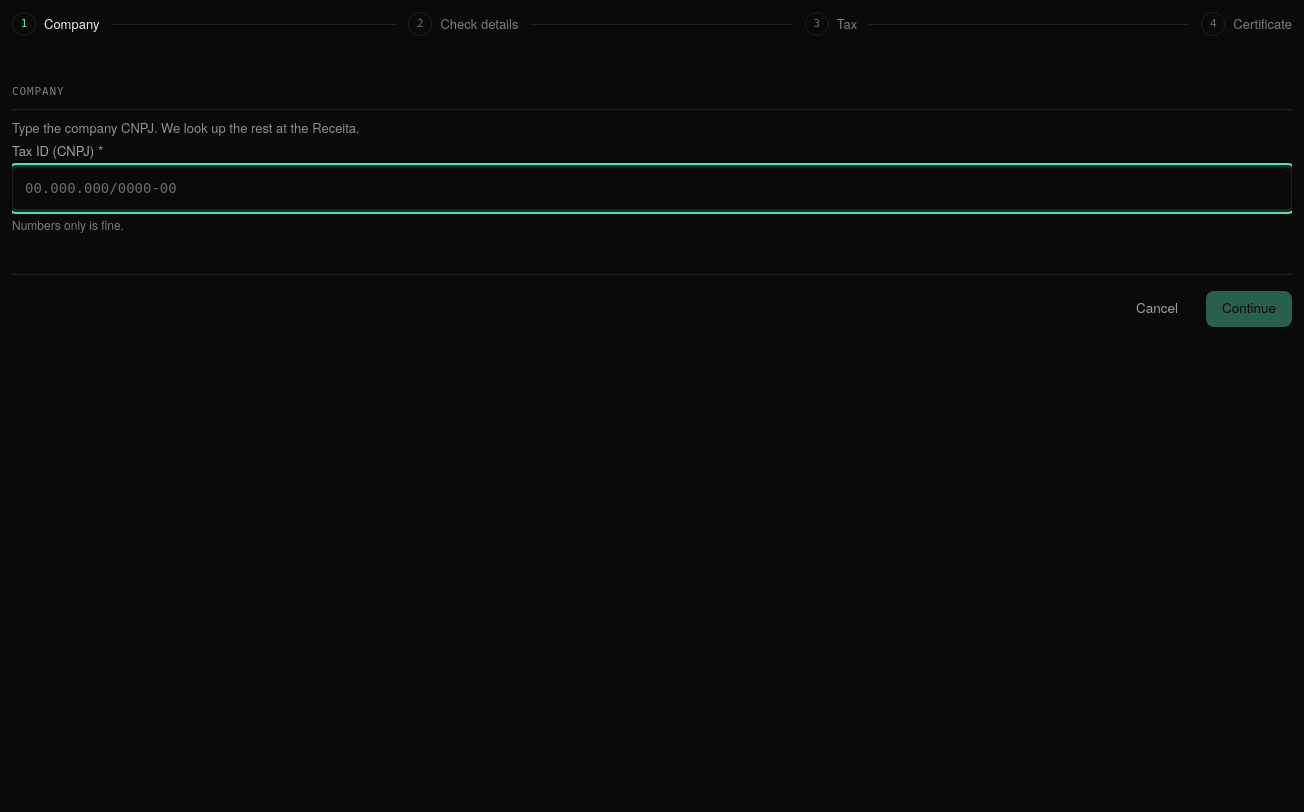
Scenario: CompanyForm starts with the CNPJ › looks the company up, shows what was found and goes on to check the details
The width and height of the screenshot is (1304, 812).
Type "11222333000181" into the field labelled "Tax ID (CNPJ)*".
click(652, 188); type("11222333000181")  # box [12,166,1292,210]
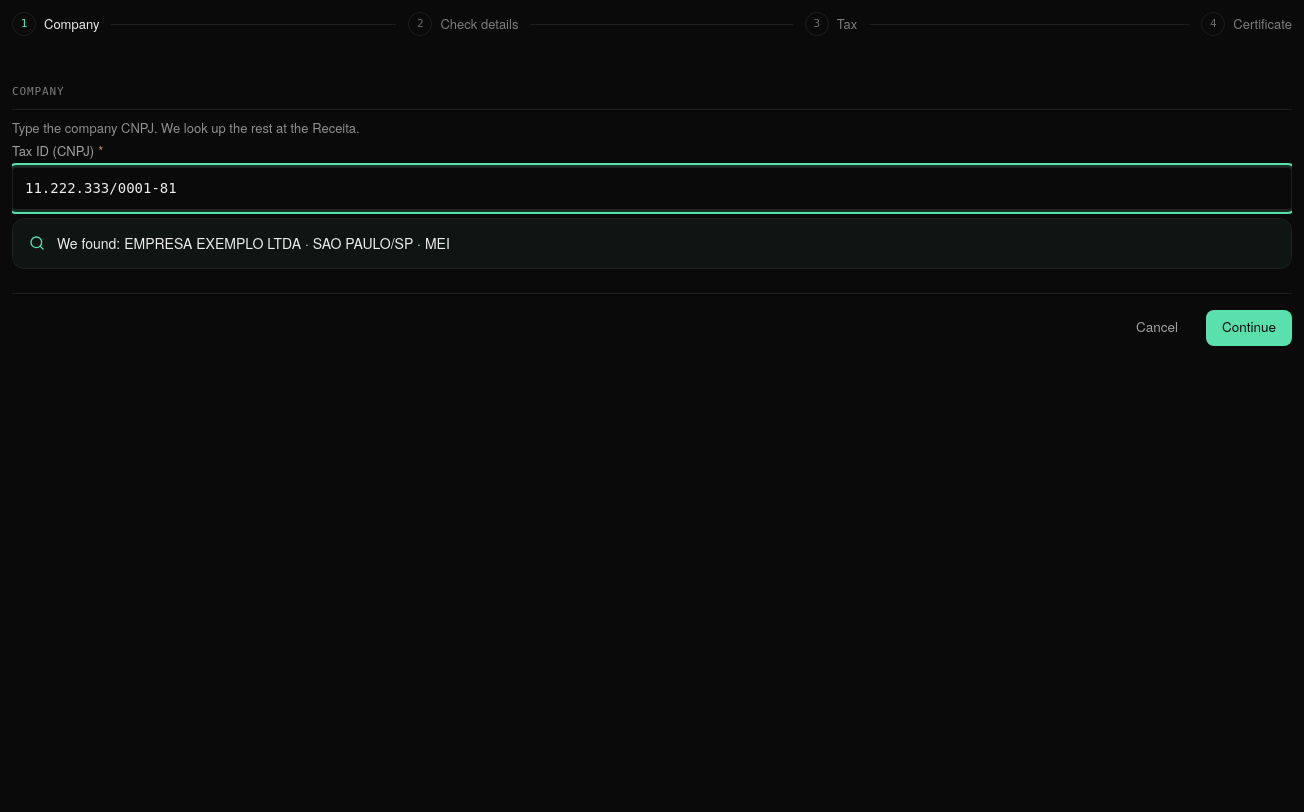
Expected: the text "We found: EMPRESA EXEMPLO LTDA · SAO PAULO/SP · MEI" is shown, [57,232,450,254]
Expected: the button "Continue" is enabled
Click the button "Continue".
click(1249, 328)  # box [1206,310,1292,346]
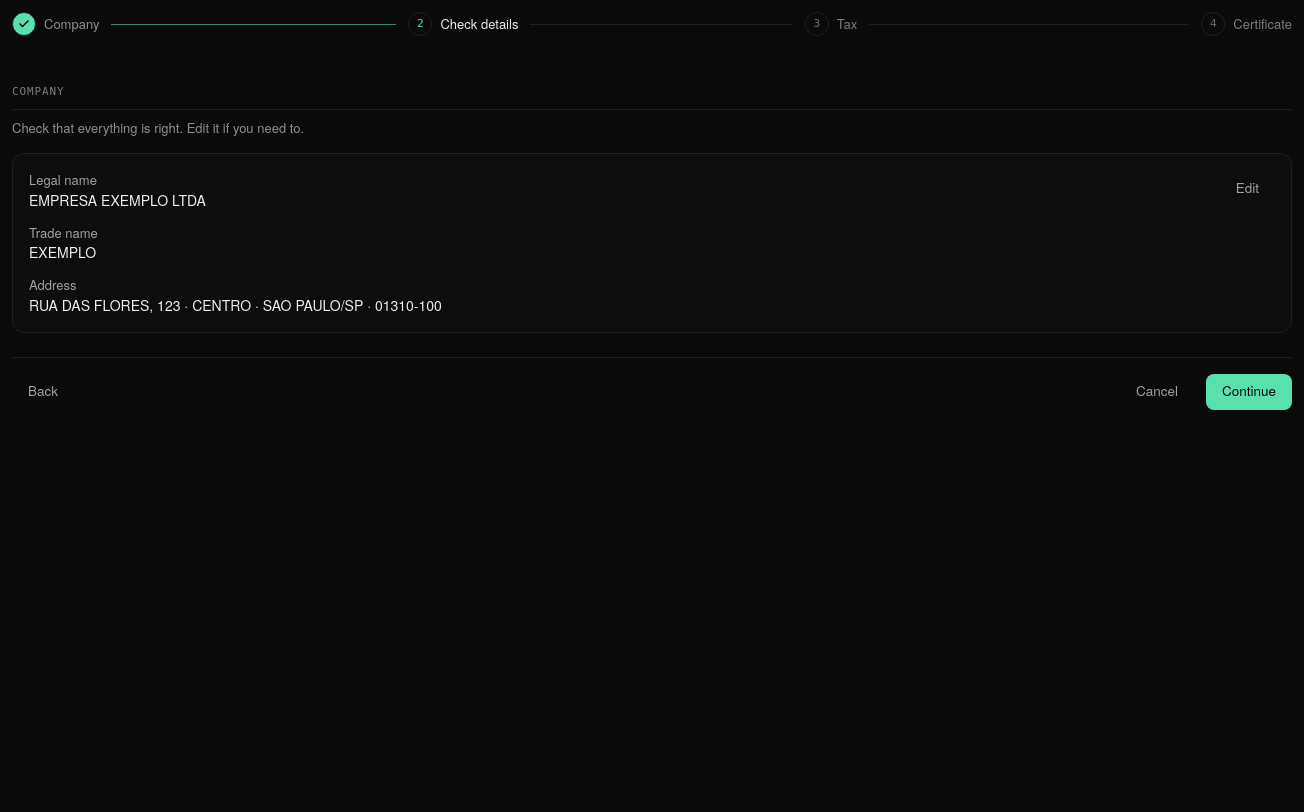
Expected: the text "EMPRESA EXEMPLO LTDA" is shown, [29,190,206,210]
Expected: the text "EXEMPLO" is shown, [29,242,96,262]
Expected: the text "RUA DAS FLORES, 123 · CENTRO · SAO PAULO/SP · 01310-100" is shown, [29,294,442,316]
Click the button "Edit".
click(1247, 188)  # box [1220,170,1275,206]
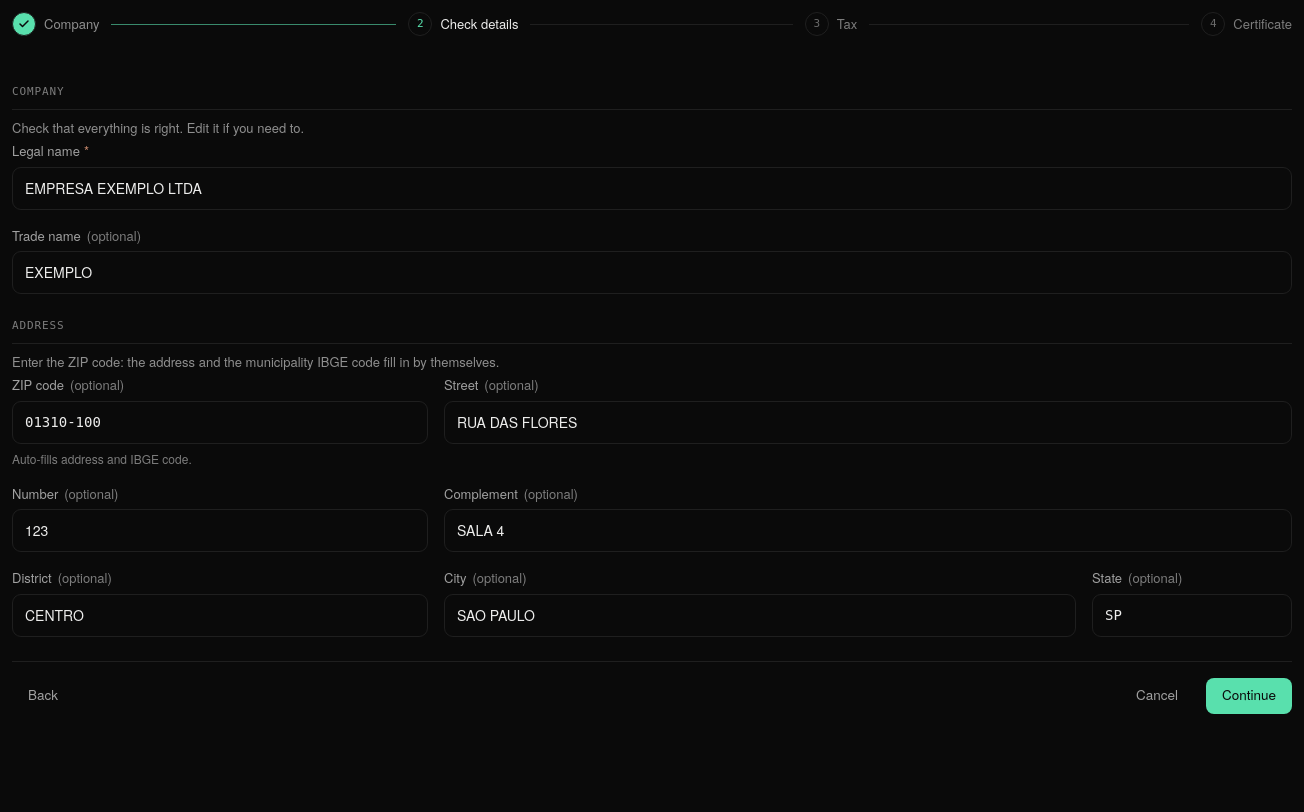
Expected: the field labelled "Legal name*" holds "EMPRESA EXEMPLO LTDA", [12,166,1292,210]
Expected: the field labelled "Street(optional)" holds "RUA DAS FLORES", [444,400,1292,444]
Expected: the field labelled "City(optional)" holds "SAO PAULO", [444,594,1076,636]
Click the button "Continue".
click(1249, 696)  # box [1206,678,1292,714]
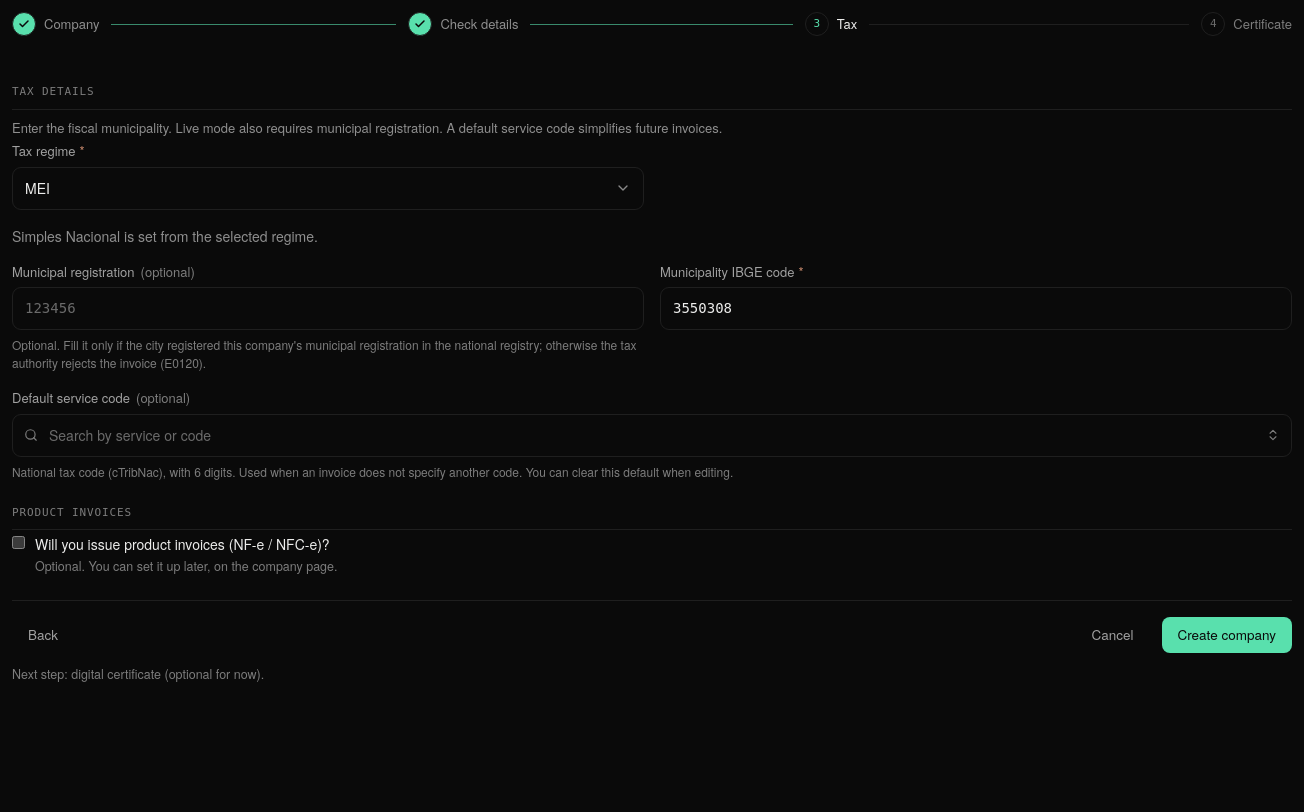
Expected: the field labelled "Municipality IBGE code*" holds "3550308", [660,287,1292,330]
Expected: the dropdown labelled "Tax regime*" shows "MEI", [12,166,644,210]
